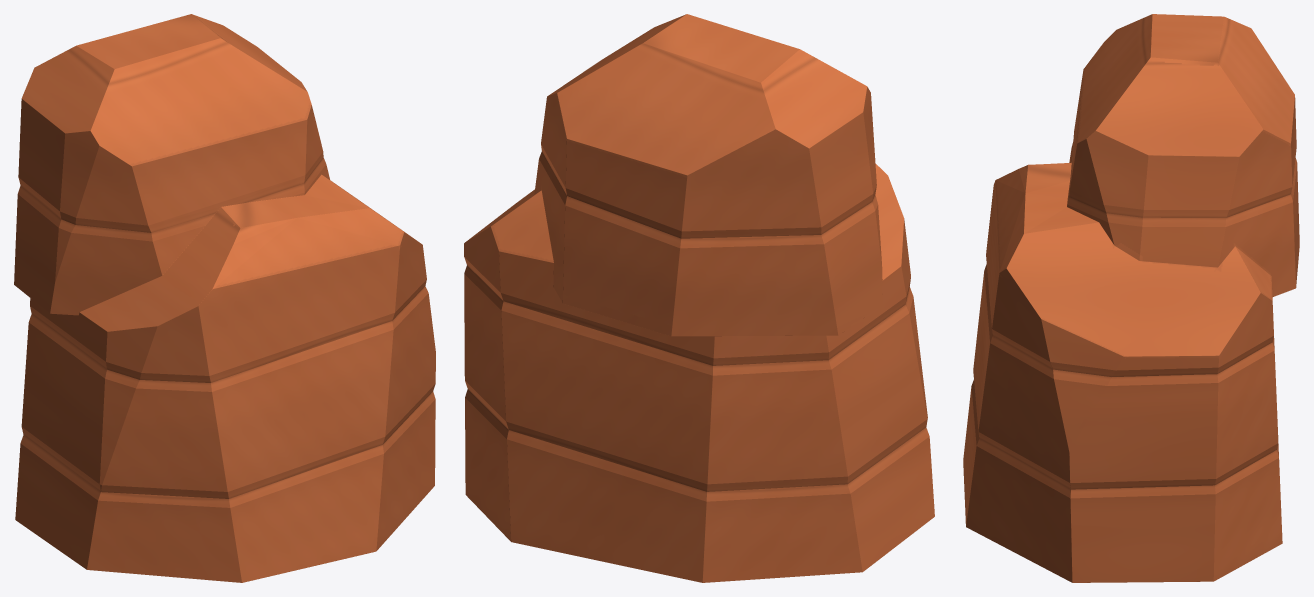
Rendered from CanyonWall_Corner.fbx.
The picture shows the model from 3 angles, left to right: view 1: azimuth 30°, elevation 25°; view 2: azimuth 150°, elevation 25°; view 3: azimuth 270°, elevation 25°; orthographic projection. The views are drawn at different scales.
Parts seen in each view (by area): view 1: CanyonWall_Corner; view 2: CanyonWall_Corner; view 3: CanyonWall_Corner.
Part boxes in pixels (x1,y1,x2,y2): CanyonWall_Corner: (14, 14, 435, 582); CanyonWall_Corner: (464, 14, 934, 582); CanyonWall_Corner: (963, 14, 1299, 582).
Bounding box in the file's own units: 26 × 32 × 22.
1 material, 1 textured.
